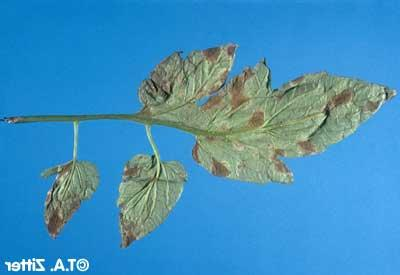Tomato mold leaf: (137, 35, 397, 189), (103, 150, 188, 250), (34, 159, 100, 237)
